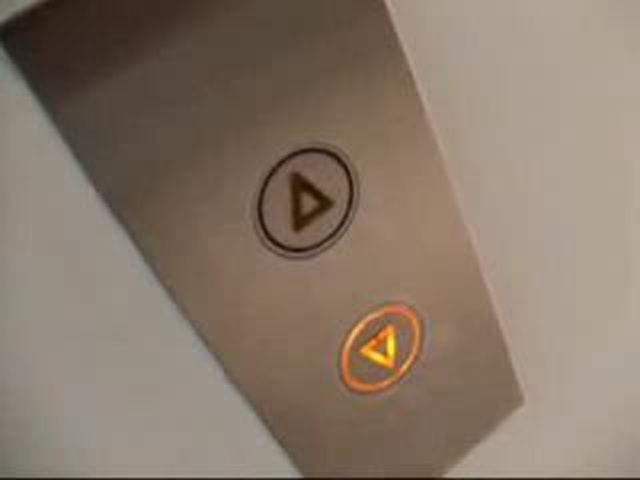down: (336, 300, 427, 396)
up: (249, 140, 361, 263)
